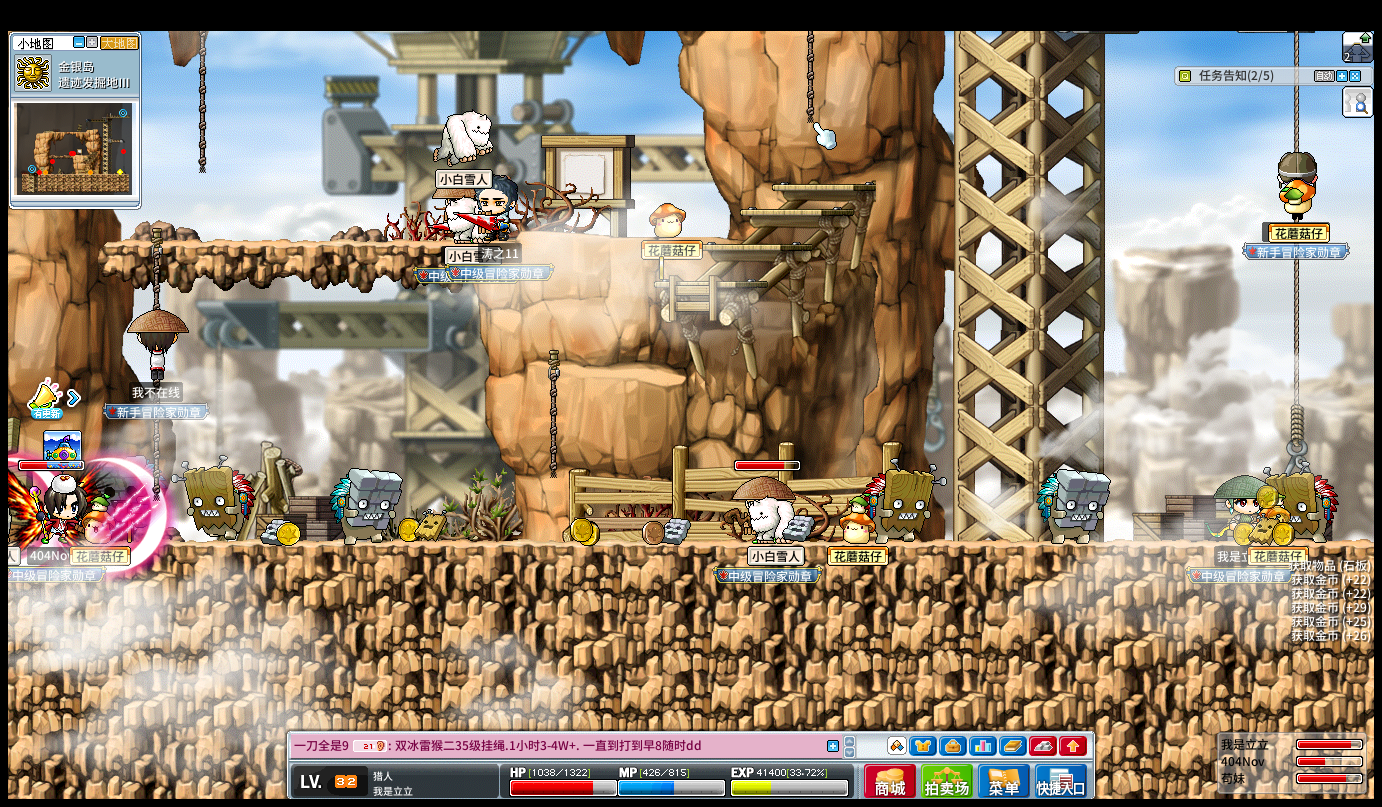floor: (102, 239, 469, 249), (579, 364, 688, 385), (601, 233, 738, 241), (650, 279, 765, 288), (699, 243, 809, 251), (736, 207, 848, 214), (771, 184, 875, 191)
monster: (175, 456, 255, 543), (865, 463, 939, 540), (328, 467, 402, 544), (1038, 470, 1111, 544)
rope: (546, 350, 561, 483), (1291, 257, 1302, 408), (198, 30, 207, 172), (150, 227, 161, 308), (1292, 29, 1299, 148), (805, 29, 813, 123), (1289, 402, 1304, 444), (152, 418, 161, 487)
